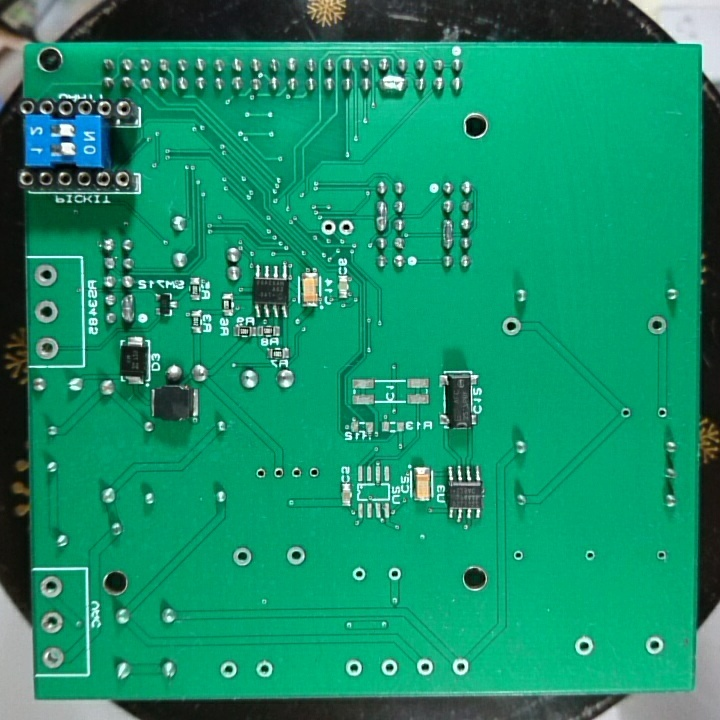F: (39, 643, 68, 670), (37, 575, 65, 602), (33, 298, 59, 325), (376, 657, 405, 681), (32, 264, 59, 289), (38, 608, 62, 636), (32, 337, 61, 360), (230, 544, 254, 569), (285, 543, 308, 569), (499, 315, 525, 338), (646, 313, 667, 339), (412, 655, 435, 678), (643, 635, 666, 658), (217, 659, 239, 683), (343, 656, 365, 680), (573, 635, 595, 658), (254, 658, 275, 681), (450, 655, 470, 679), (318, 216, 337, 239), (350, 564, 368, 588), (337, 217, 356, 239), (386, 563, 402, 586), (253, 465, 270, 484), (582, 546, 599, 565), (617, 404, 633, 423), (510, 546, 525, 566), (288, 465, 305, 482), (654, 403, 668, 421), (654, 547, 670, 562), (307, 464, 321, 481), (271, 466, 285, 481)
P: (377, 72, 410, 97), (118, 294, 138, 325), (439, 215, 455, 251), (374, 198, 388, 235)
